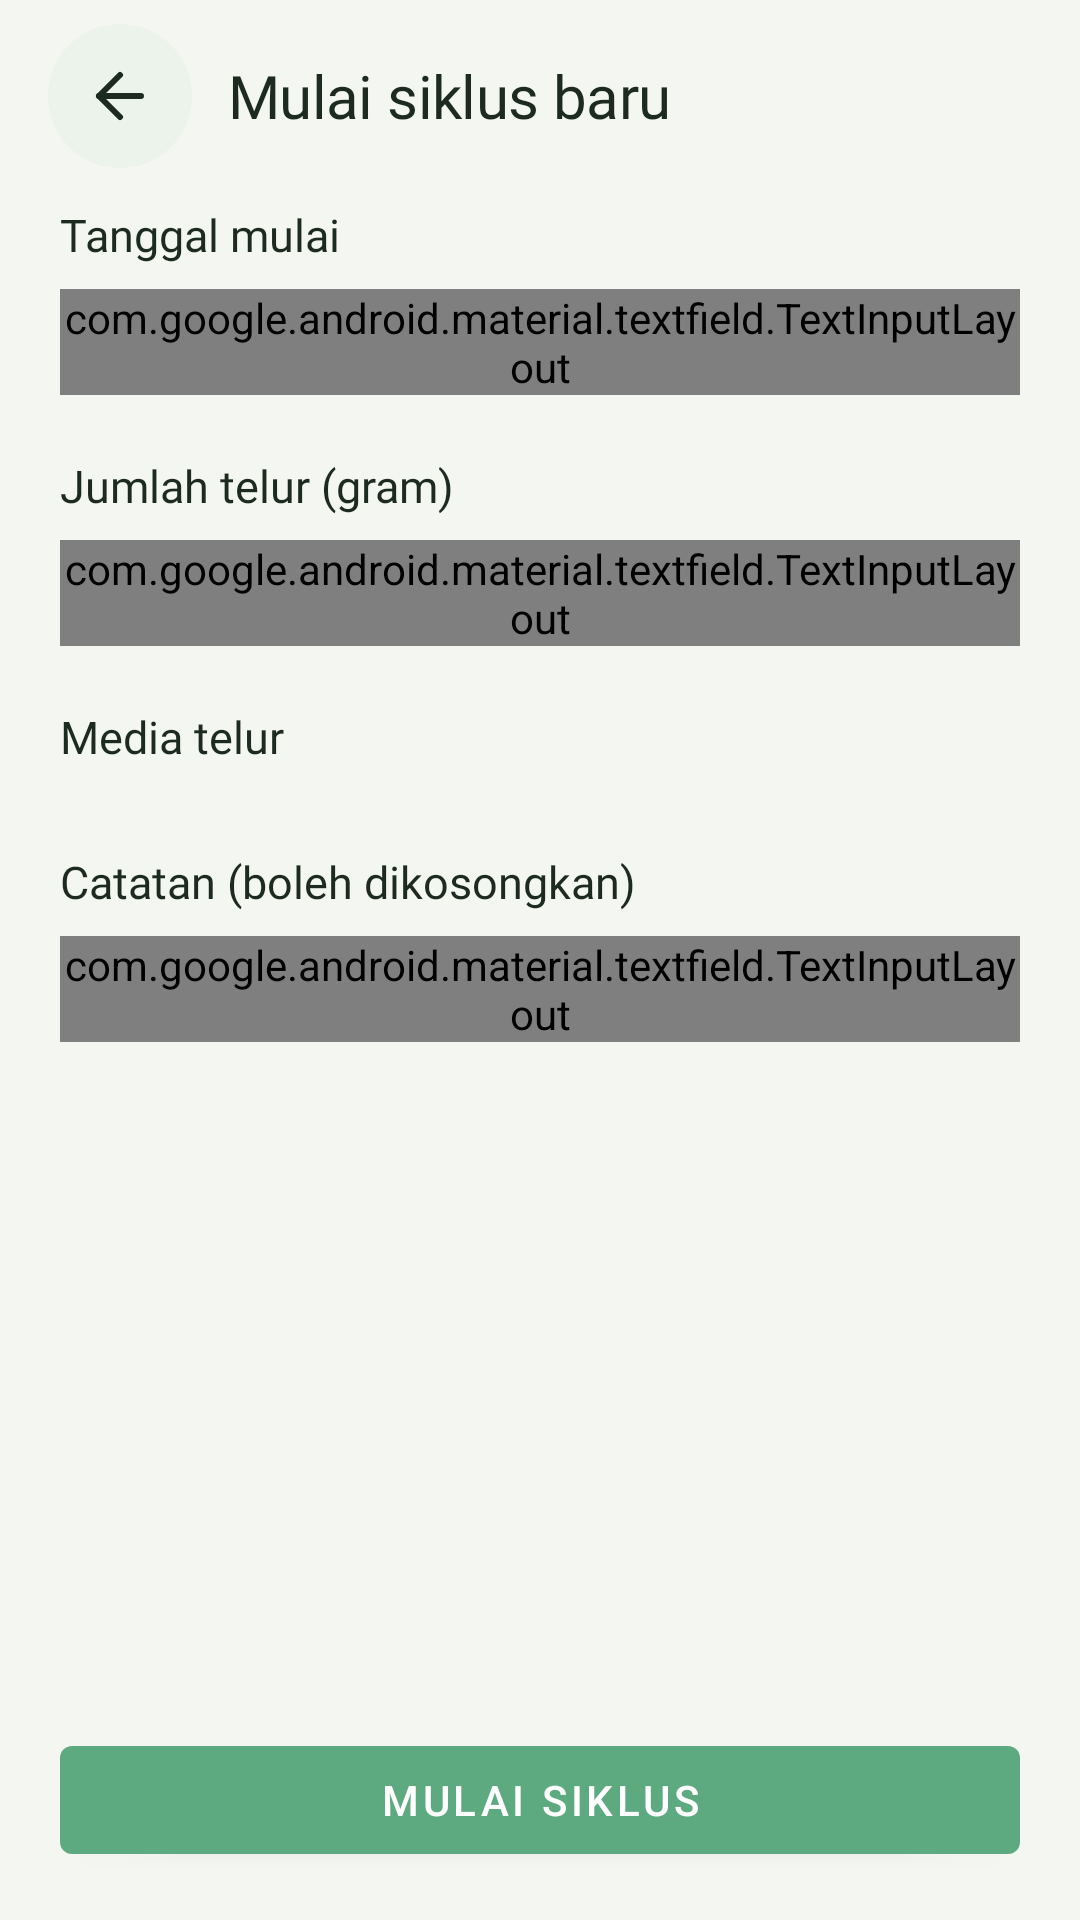

Icons on this 1080 × 1920 Android screen, each with the point to tap as point (x, y):
Kembali: point (120, 96)
